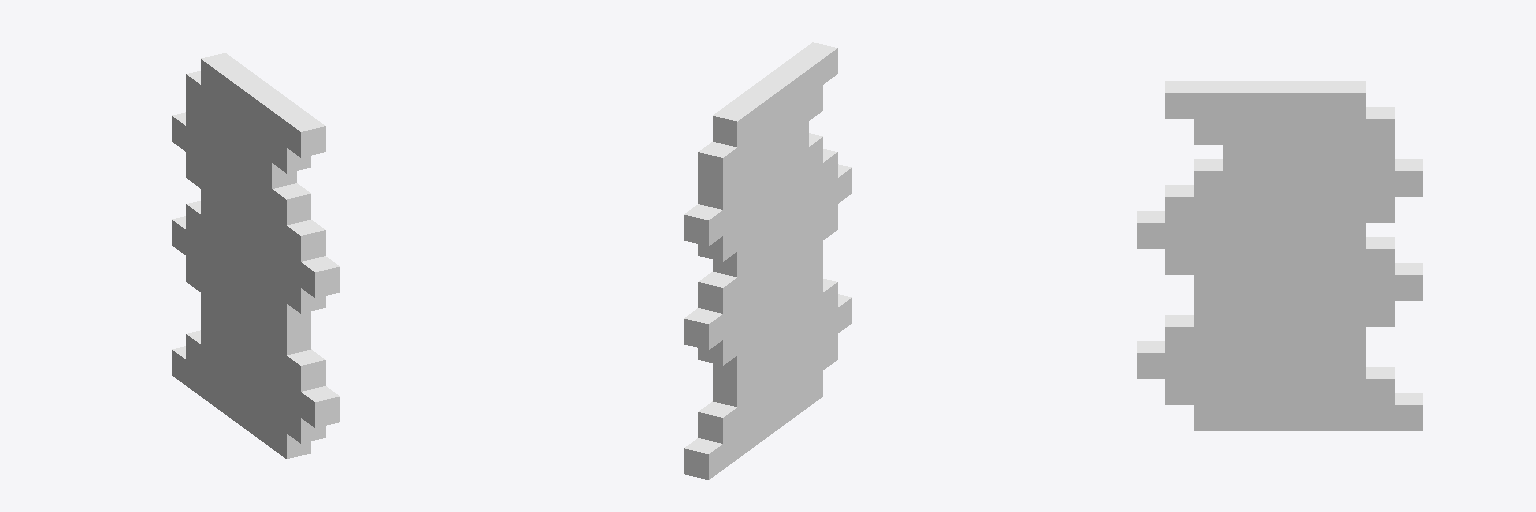
File: bacon.obj
The picture shows the model from 3 angles: view 1: azimuth 30°, elevation 25°; view 2: azimuth 150°, elevation 25°; view 3: azimuth 270°, elevation 25°; orthographic projection.
Parts seen in each view (by area): view 1: bacon; view 2: bacon; view 3: bacon.
Part boxes in pixels (x1,y1,x2,y2): bacon: (172, 53, 339, 458); bacon: (684, 42, 851, 479); bacon: (1137, 81, 1422, 430).
Bounding box in the file's own units: 1 × 13 × 10.